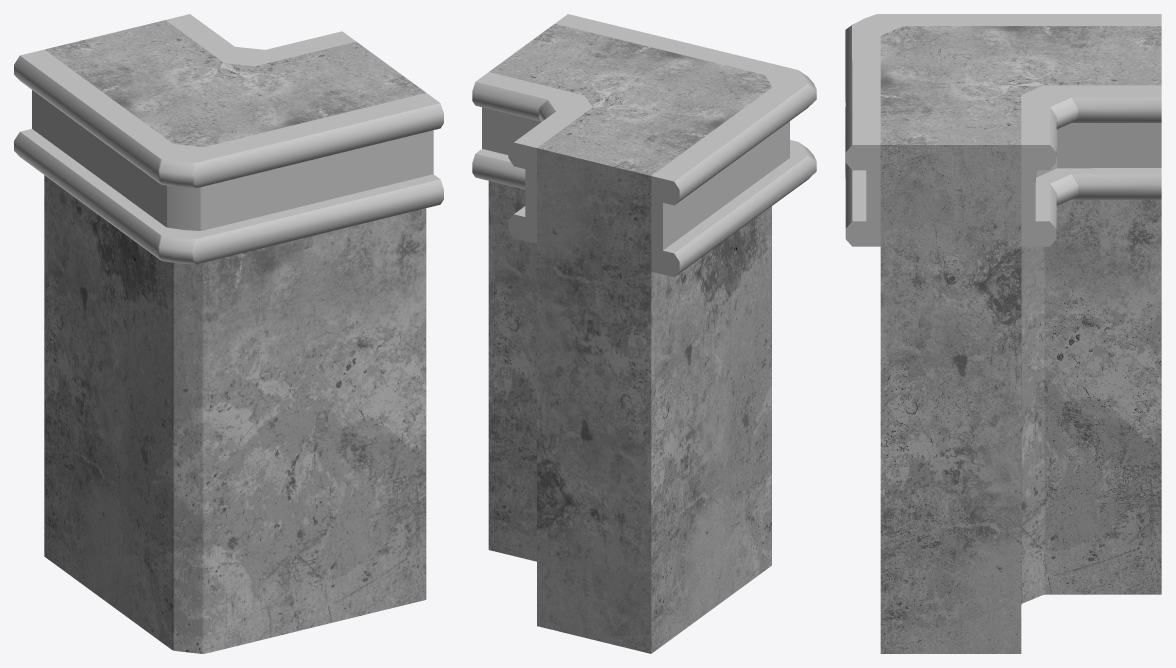
File: SM_Wallkit_Corner_01c.fbx
The picture shows the model from 3 angles, left to right: view 1: azimuth 30°, elevation 25°; view 2: azimuth 150°, elevation 25°; view 3: azimuth 270°, elevation 25°; orthographic projection. The views are drawn at different scales.
Visible parts, largest first — view 1: SM_Wallkit_Corner_01c_LOD0; view 2: SM_Wallkit_Corner_01c_LOD0; view 3: SM_Wallkit_Corner_01c_LOD0.
Part boxes in pixels (left/top/right/bottom): SM_Wallkit_Corner_01c_LOD0: left=14, top=14, right=443, bottom=653; SM_Wallkit_Corner_01c_LOD0: left=472, top=14, right=816, bottom=653; SM_Wallkit_Corner_01c_LOD0: left=845, top=14, right=1161, bottom=653.
Bounding box in the file's own units: 225 × 225 × 400.
